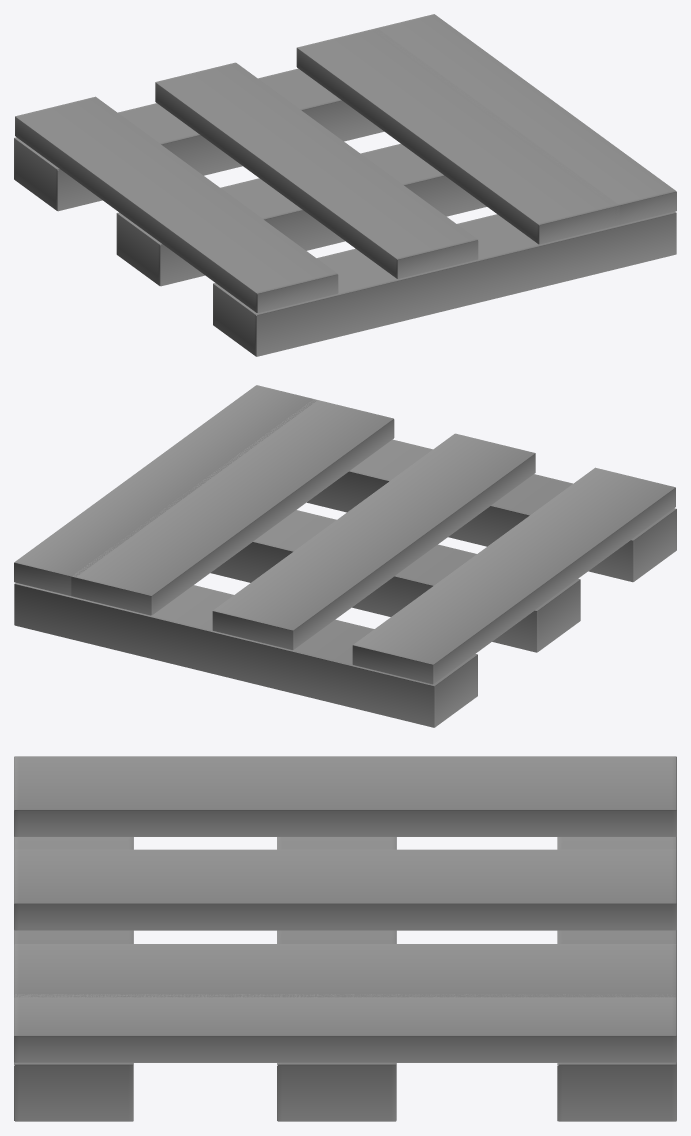
Rendered from platform.gltf.
The picture shows the model from 3 angles, top to bottom: view 1: azimuth 30°, elevation 25°; view 2: azimuth 150°, elevation 25°; view 3: azimuth 270°, elevation 25°; orthographic projection. The views are drawn at different scales.
Visible parts, largest first — view 1: Obj3d66_664248_753_806; view 2: Obj3d66_664248_753_806; view 3: Obj3d66_664248_753_806.
Boxes of the visible parts, x1,y1,x2,y2 form: Obj3d66_664248_753_806: (14,14,676,356); Obj3d66_664248_753_806: (14,385,676,727); Obj3d66_664248_753_806: (14,756,676,1121).
Bounding box in the file's own units: 723 × 104 × 723.
1 material, 1 textured.
